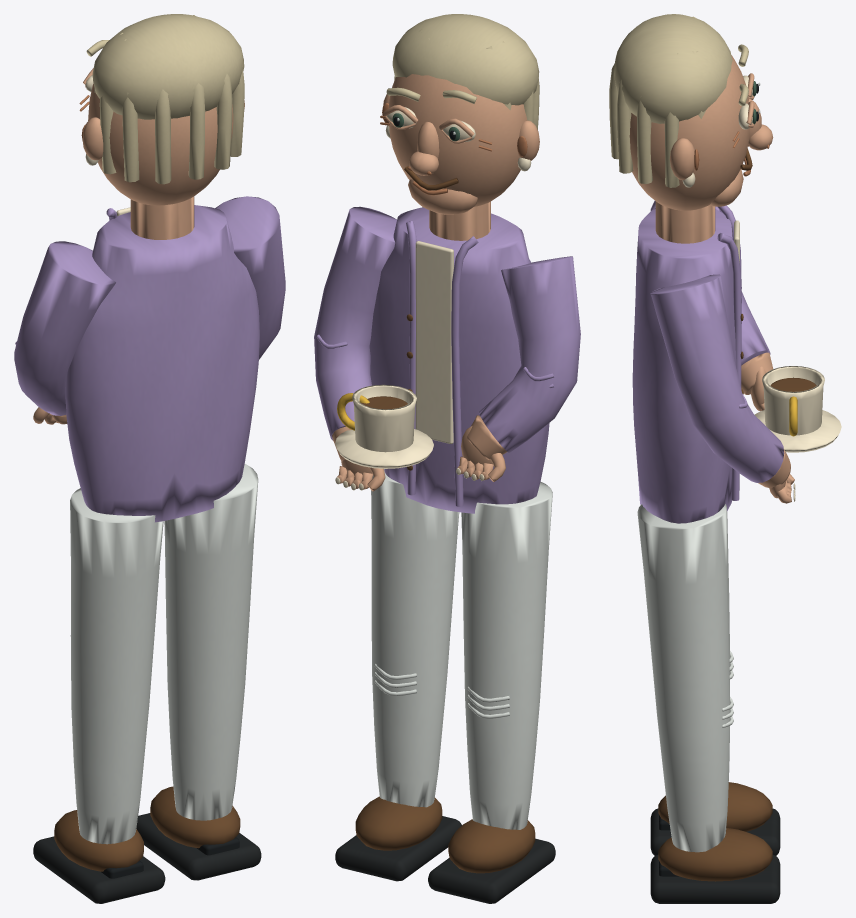
File: NPC_Gloria.gltf
3 renders of one model, left to right at view 1: azimuth 30°, elevation 25°; view 2: azimuth 150°, elevation 25°; view 3: azimuth 270°, elevation 25°, orthographic. The views are drawn at different scales.
Visible parts, largest first — view 1: NPC_Gloria__Body, NPC_Gloria__Head; view 2: NPC_Gloria__Body, NPC_Gloria__Head; view 3: NPC_Gloria__Body, NPC_Gloria__Head.
Boxes of the visible parts, box(x1,y1,x2,y2) form: NPC_Gloria__Body: box(14, 196, 285, 903); NPC_Gloria__Head: box(79, 14, 244, 205); NPC_Gloria__Body: box(314, 201, 580, 903); NPC_Gloria__Head: box(380, 14, 539, 214); NPC_Gloria__Body: box(632, 200, 841, 903); NPC_Gloria__Head: box(609, 14, 773, 210).
Size of the model in its own units: 0.504 by 1.57 by 0.392.
Materials: 1 (1 with a texture image).
